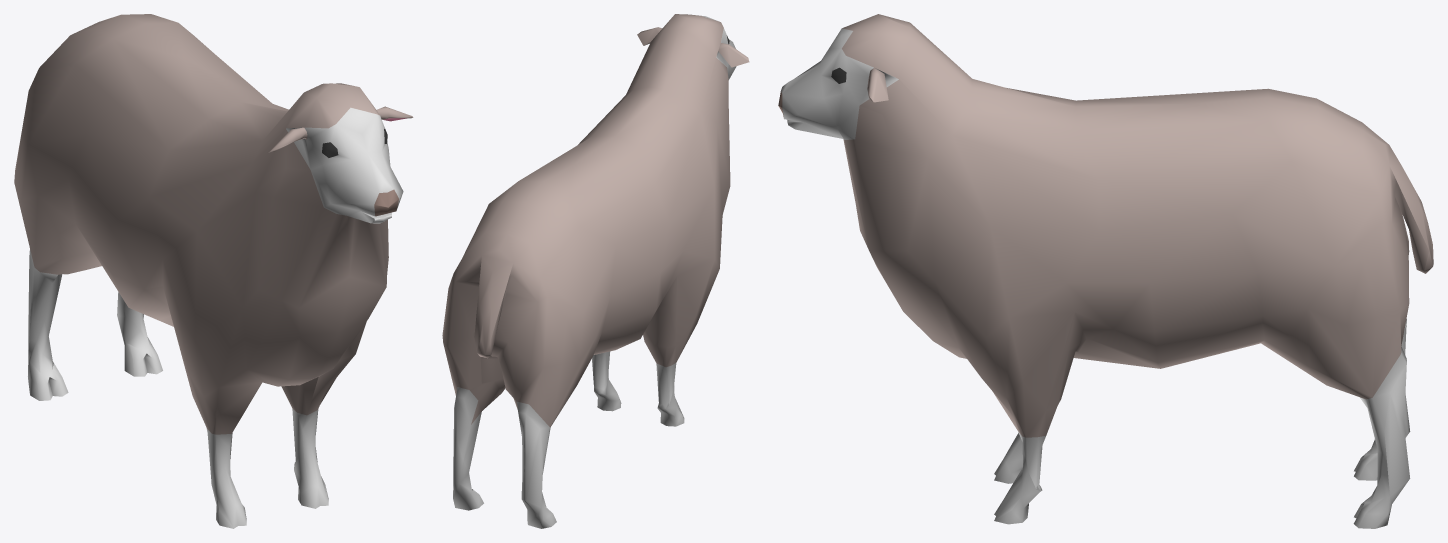
Rendered from sheep_002.glb.
The picture shows the model from 3 angles, left to right: view 1: azimuth 30°, elevation 25°; view 2: azimuth 150°, elevation 25°; view 3: azimuth 270°, elevation 25°; orthographic projection. The views are drawn at different scales.
Parts seen in each view (by area): view 1: sheep_002; view 2: sheep_002; view 3: sheep_002.
Part boxes in pixels (x1,y1,x2,y2): sheep_002: (14,14,413,528); sheep_002: (442,14,749,528); sheep_002: (778,14,1433,528).
Size of the model in its own units: 0.4808 by 1.14 by 1.42.
1 material, 1 textured.
